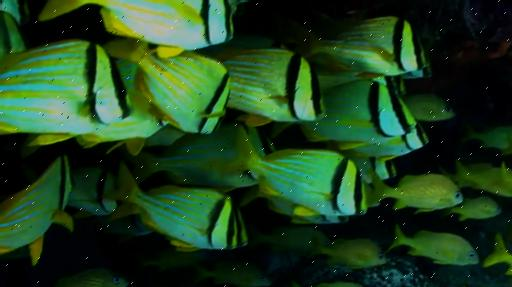Fish: (0, 0, 512, 265), (389, 230, 480, 265), (225, 262, 270, 287), (71, 268, 128, 287), (481, 131, 512, 154), (465, 125, 481, 139)
